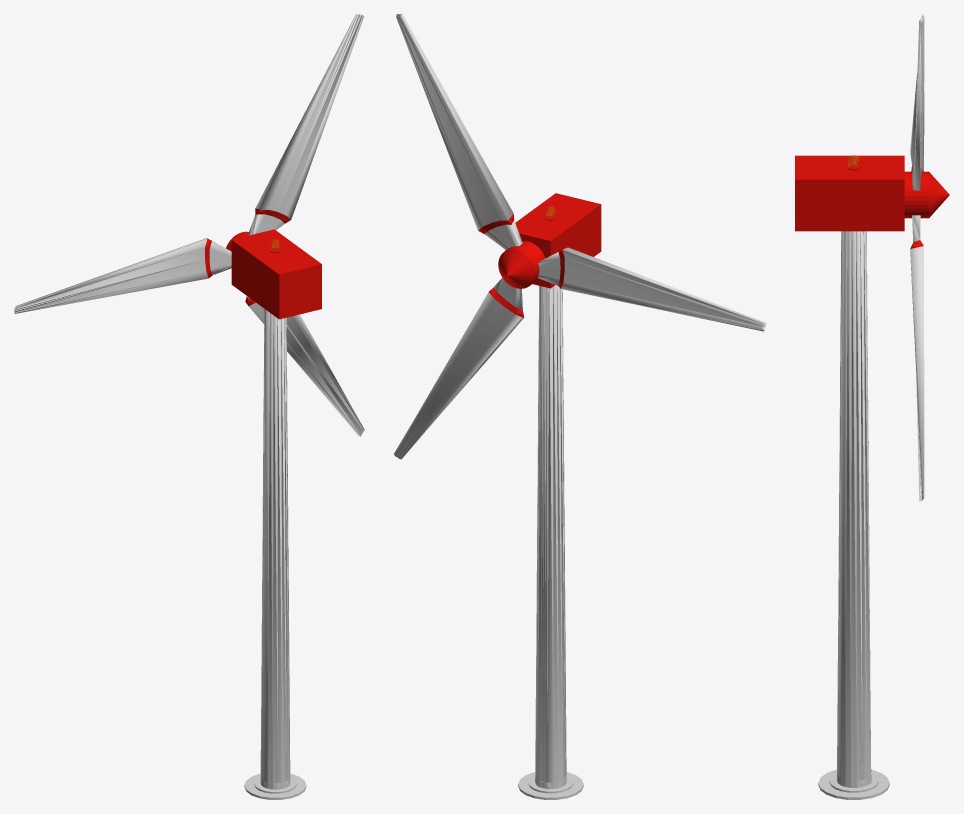
Rendered from wind turbine.glb.
3 renders of one model, left to right at view 1: azimuth 30°, elevation 25°; view 2: azimuth 150°, elevation 25°; view 3: azimuth 270°, elevation 25°, orthographic. The views are drawn at different scales.
Parts seen in each view (by area): view 1: Body, Rotor; view 2: Rotor, Body; view 3: Body, Rotor.
Boxes of the visible parts, x1,y1,x2,y2 form: Body: [231, 229, 321, 799]; Rotor: [14, 14, 364, 436]; Rotor: [393, 14, 766, 459]; Body: [505, 193, 601, 799]; Body: [795, 154, 904, 799]; Rotor: [904, 14, 949, 501].
Bounding box in the file's own units: 69.44 × 137 × 23.05.
